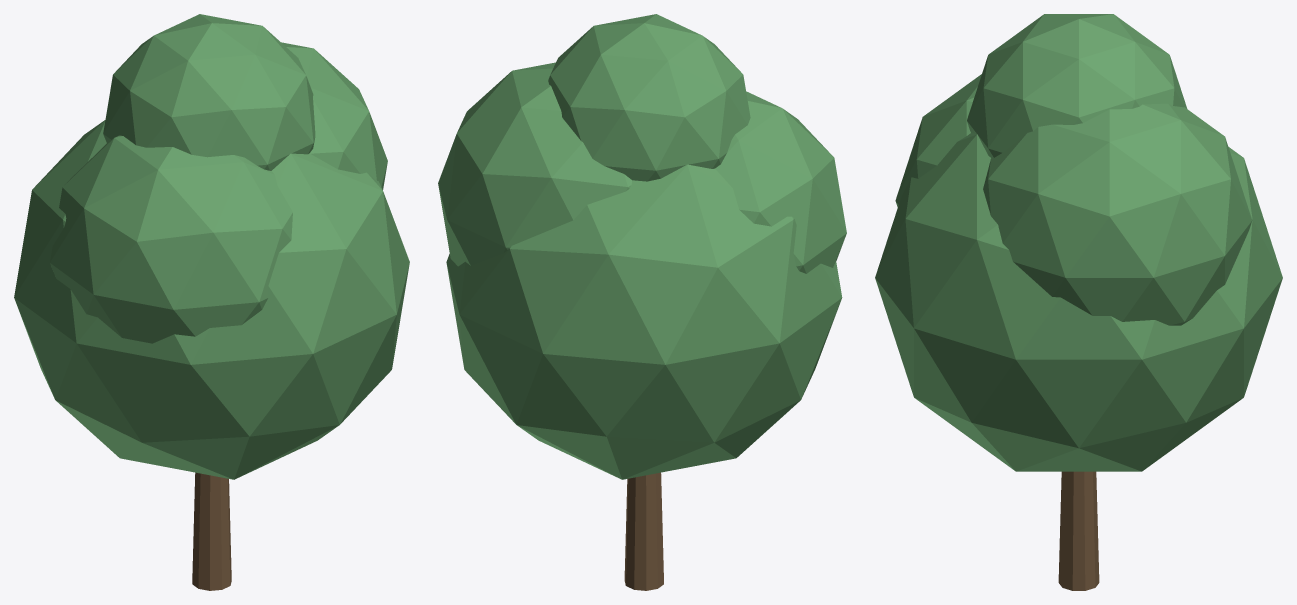
The model's file is arbol.fbx.
3 renders of one model, left to right at view 1: azimuth 30°, elevation 25°; view 2: azimuth 150°, elevation 25°; view 3: azimuth 270°, elevation 25°, orthographic.
Parts seen in each view (by area): view 1: arbol; view 2: arbol; view 3: arbol.
Boxes of the visible parts, x1,y1,x2,y2 form: arbol: [14, 14, 409, 590]; arbol: [438, 14, 846, 590]; arbol: [875, 14, 1282, 590].
Size of the model in its own units: 383 by 610 by 400.
